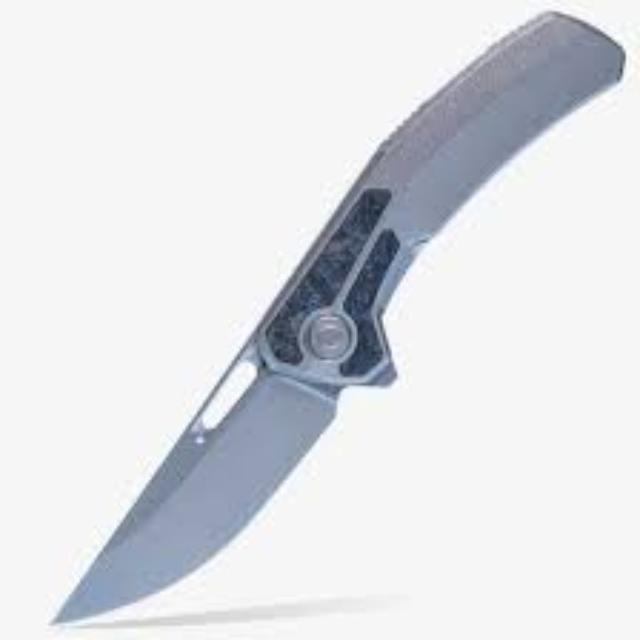Knife: (46, 6, 626, 626)
